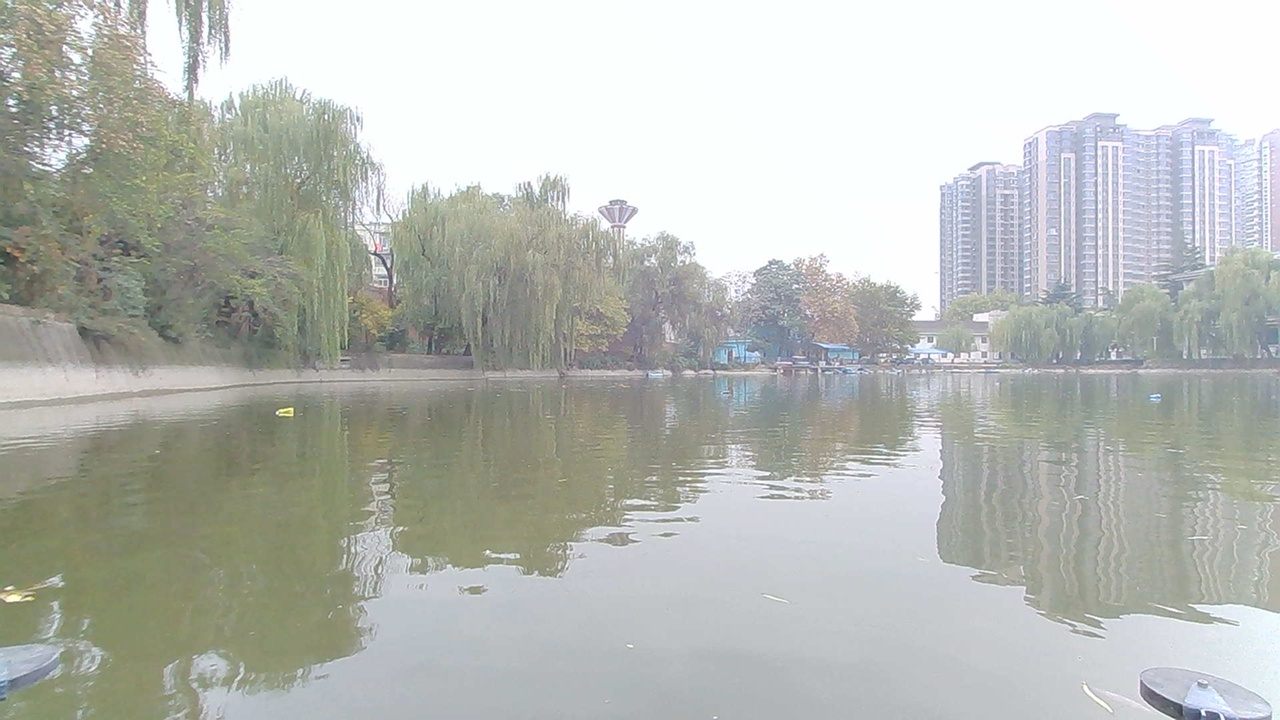bottle: (272, 400, 306, 423), (1143, 387, 1174, 410), (714, 385, 743, 400)
